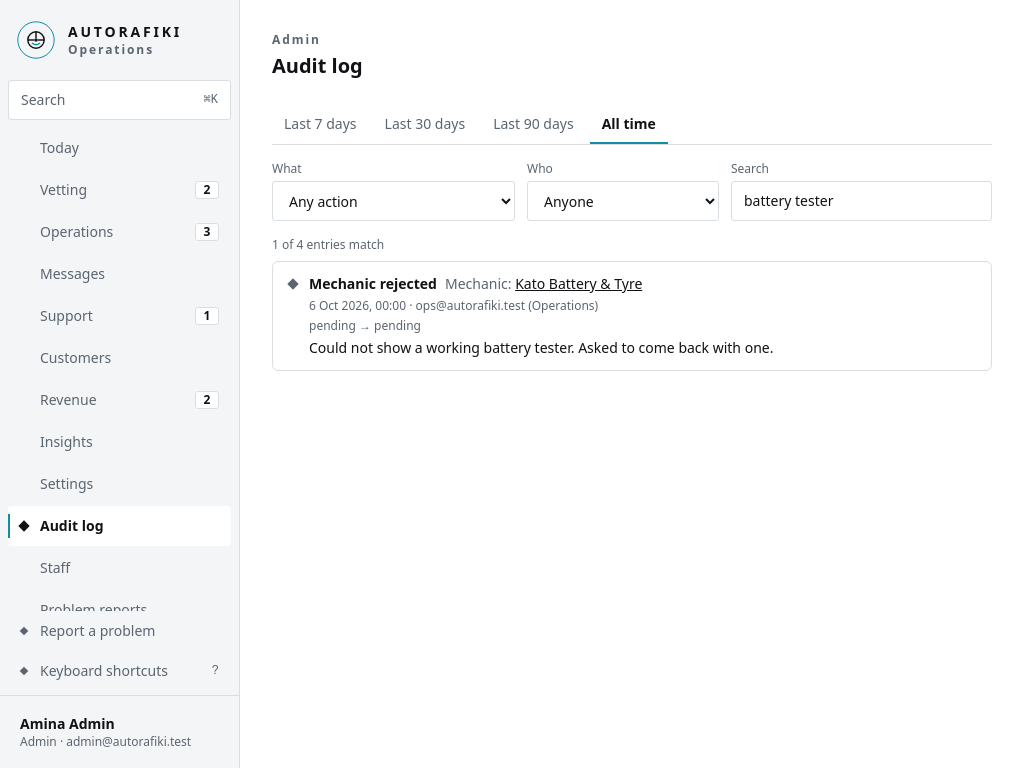
audit log page › shows new decisions and filters by free text
Expected: the list named "Audit entries" is shown, [272, 261, 992, 371]
Replace the text in the search field named "Search the log" with "no such thing" at [862, 201], box [731, 181, 992, 221]
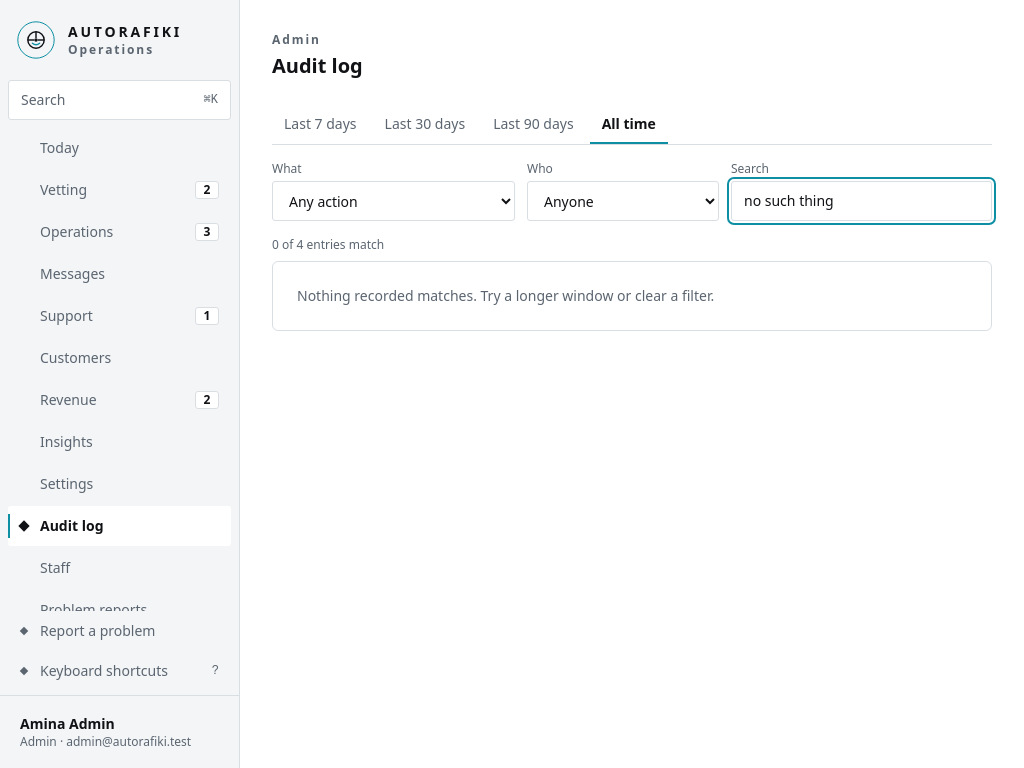
Expected: the text "Nothing recorded matches" is shown, [297, 286, 714, 305]
